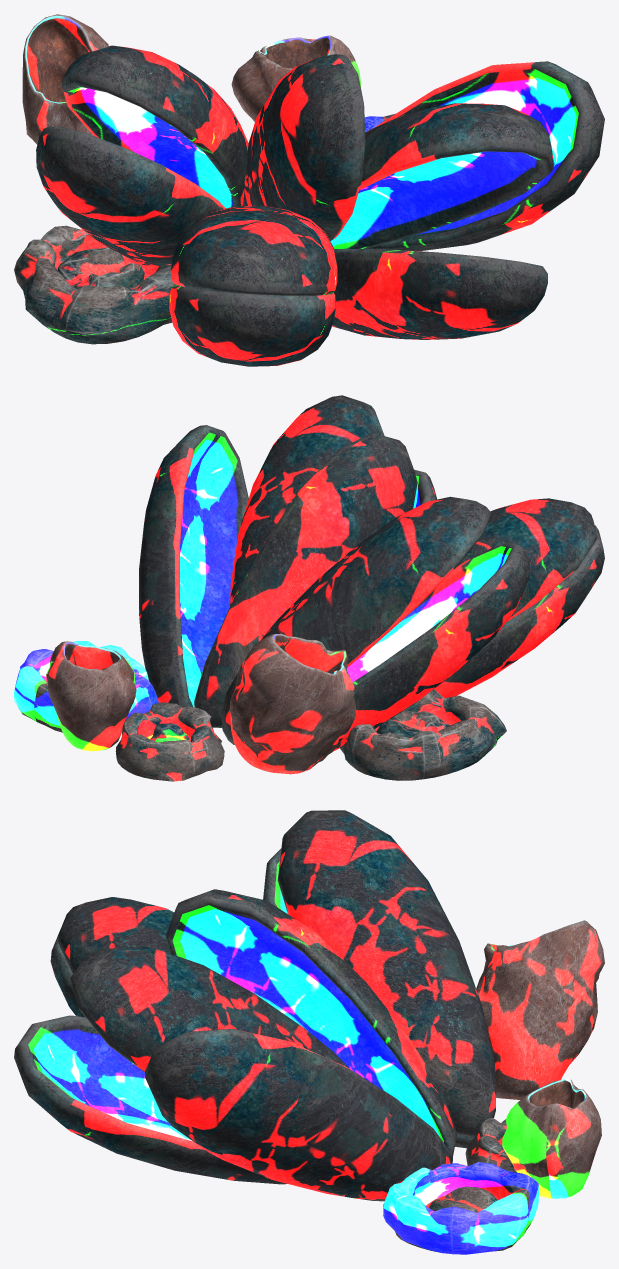
Rendered from SM_Barnacle_C_02.fbx.
3 renders of one model, top to bottom at view 1: azimuth 30°, elevation 25°; view 2: azimuth 150°, elevation 25°; view 3: azimuth 270°, elevation 25°, orthographic. The views are drawn at different scales.
Visible parts, largest first — view 1: SM_Barnacle_C_02_LOD0; view 2: SM_Barnacle_C_02_LOD0; view 3: SM_Barnacle_C_02_LOD0.
Part boxes in pixels (x1,y1,x2,y2): SM_Barnacle_C_02_LOD0: (14, 14, 604, 366); SM_Barnacle_C_02_LOD0: (14, 395, 604, 781); SM_Barnacle_C_02_LOD0: (14, 810, 604, 1254).
Size of the model in its own units: 111 by 123 by 64.01.
Materials: 3 (3 with a texture image).
